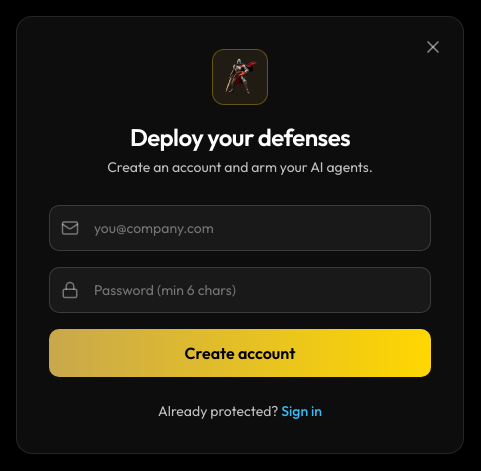
Test: AuthModal › mode switching › switches from signup back to signin when Sign in is clicked
The width and height of the screenshot is (481, 471).
Click the button with test id "switch-to-signin" at [302, 411], box [281,401,322,421]
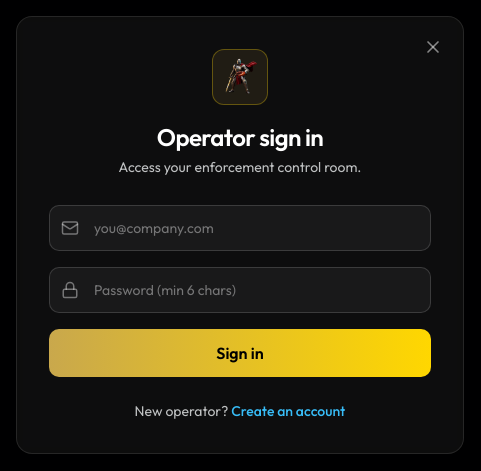
Result: the button with test id "auth-submit-btn" reads "Sign in" at [49,329,431,377]
